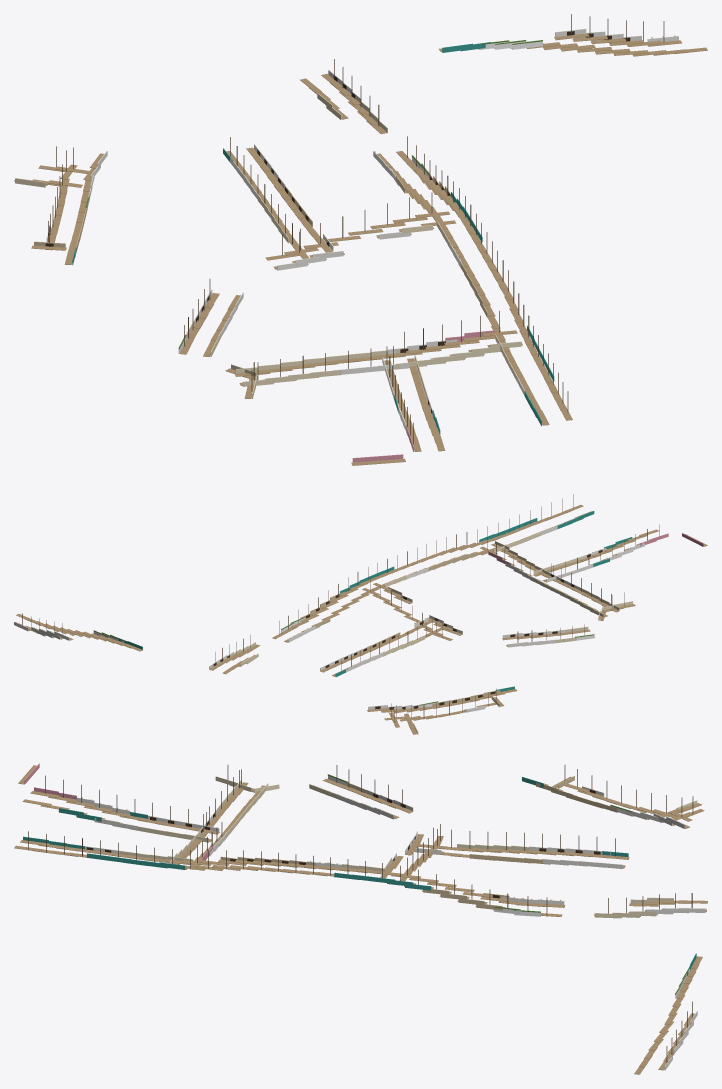
Rendered from noord_res_-27_-21.glb.
3 renders of one model, top to bottom at view 1: azimuth 30°, elevation 25°; view 2: azimuth 150°, elevation 25°; view 3: azimuth 270°, elevation 25°, orthographic. The views are drawn at different scales.
Parts seen in each view (by area): view 1: noord_res_-27_-21_lod0; view 2: noord_res_-27_-21_lod0; view 3: noord_res_-27_-21_lod0.
Boxes of the visible parts, bbox=[...] form: noord_res_-27_-21_lod0: bbox=[14, 14, 707, 465]; noord_res_-27_-21_lod0: bbox=[14, 494, 707, 734]; noord_res_-27_-21_lod0: bbox=[14, 763, 707, 1074].
Size of what is drawn, in the model's own units: 284 by 23.32 by 283.
